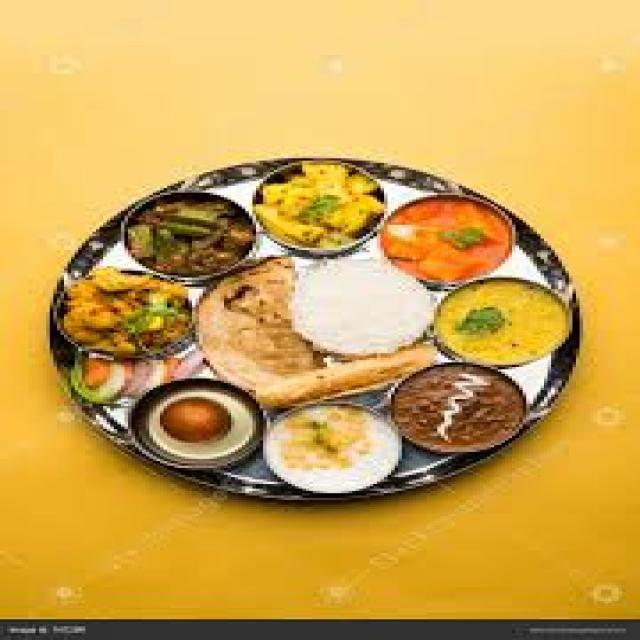dal: (430, 276, 579, 367)
raita: (263, 405, 405, 496)
rice: (45, 260, 199, 361), (287, 257, 430, 351), (265, 405, 405, 495)
roti: (193, 268, 329, 394)
sambar-rasam: (377, 185, 532, 286)
sweet: (124, 380, 269, 463)
veg-fry: (377, 186, 532, 285), (242, 158, 399, 254)
